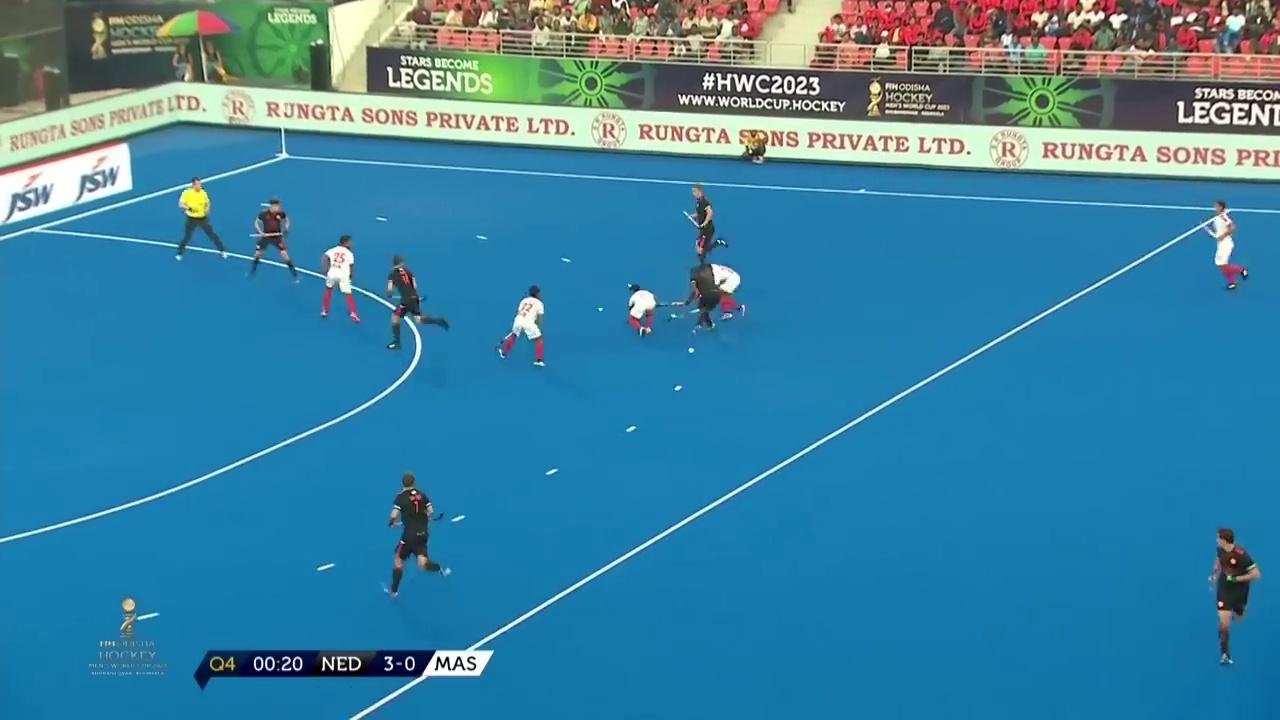ball: (591, 306, 610, 315)
